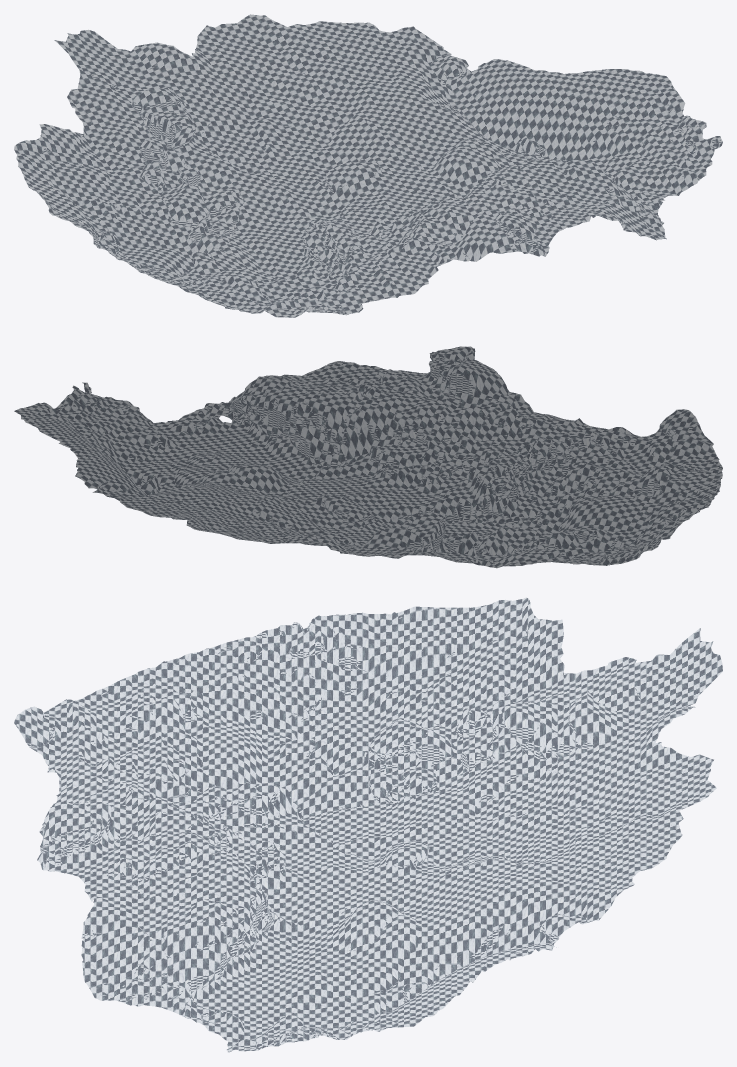
The model's file is marineRocks2.fbx.
3 views of the same model, one above another, from view 1: azimuth 30°, elevation 25°; view 2: azimuth 150°, elevation 25°; view 3: azimuth 270°, elevation 25° (orthographic). The views are drawn at different scales.
Visible parts, largest first — view 1: node_id4; view 2: node_id4; view 3: node_id4.
Part boxes in pixels (<box>): node_id4: <box>14,14,722,317</box>; node_id4: <box>14,346,722,568</box>; node_id4: <box>14,597,722,1052</box>.
Size of the model in its own units: 20.26 by 15.83 by 4.02.
Materials: 1 (1 with a texture image).
